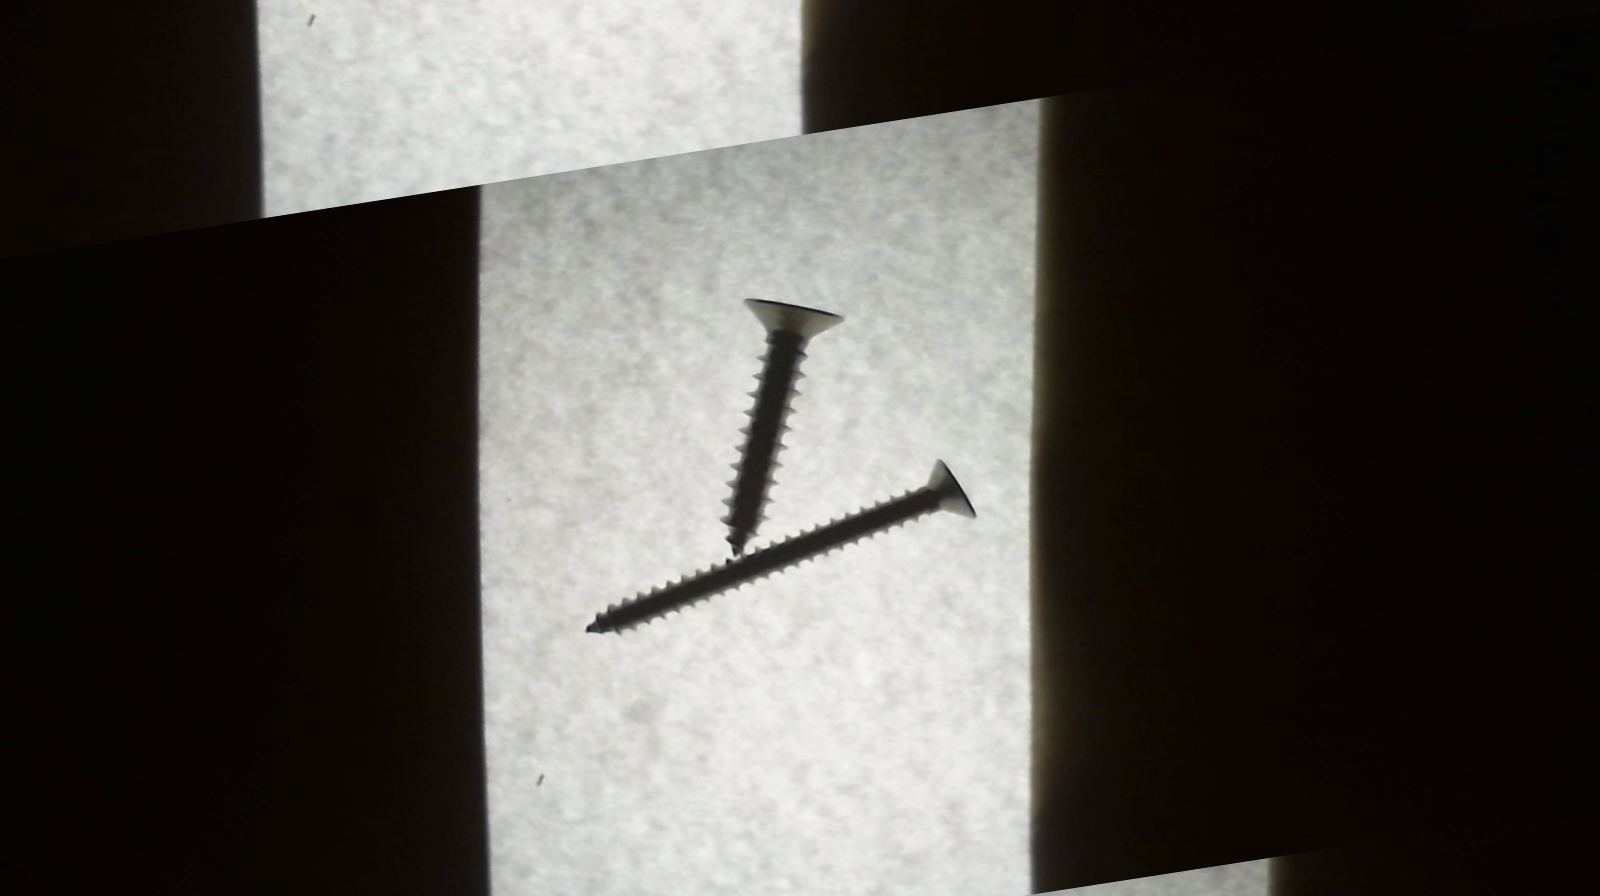S001: (651, 278, 916, 558)
S002: (548, 451, 999, 642)
